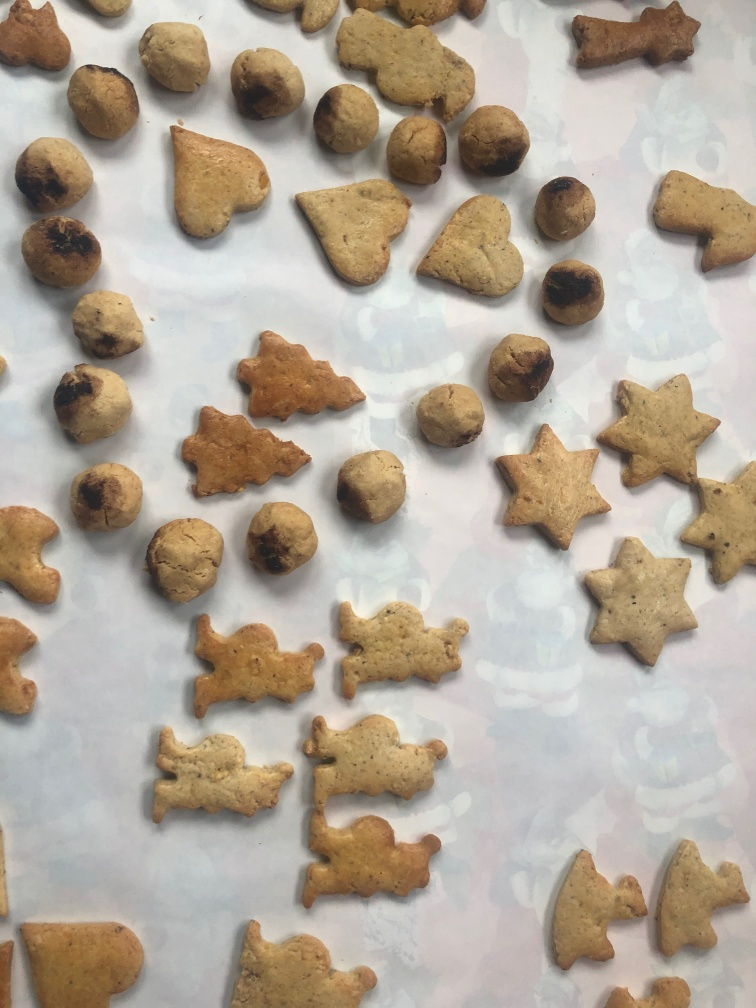angel: (644, 154, 756, 277)
christmas tree: (226, 327, 372, 433), (177, 401, 317, 508)
flake: (1, 1, 75, 84)
heart: (289, 171, 413, 300), (158, 116, 275, 252), (13, 911, 146, 1008), (415, 195, 524, 305)
lamb: (545, 838, 652, 978), (654, 832, 753, 960), (1, 502, 64, 621), (3, 613, 52, 735)
santa claus: (137, 720, 293, 835), (180, 605, 322, 727), (302, 710, 458, 818), (332, 5, 481, 117), (206, 916, 384, 1008), (292, 808, 449, 912), (326, 589, 474, 699)
shooting star: (563, 1, 711, 79)
snowball: (143, 518, 229, 613), (48, 361, 140, 449), (65, 56, 144, 145), (12, 133, 96, 216), (226, 43, 308, 128), (334, 444, 411, 534), (70, 282, 155, 361), (240, 496, 312, 587), (19, 214, 105, 290), (308, 79, 378, 169), (455, 103, 529, 187), (137, 18, 216, 95), (481, 327, 556, 407), (537, 258, 612, 338), (69, 458, 143, 538), (411, 377, 485, 451), (531, 172, 597, 248), (386, 109, 451, 184)
star: (587, 372, 722, 502), (576, 534, 698, 670), (491, 421, 610, 556), (676, 457, 756, 590)
